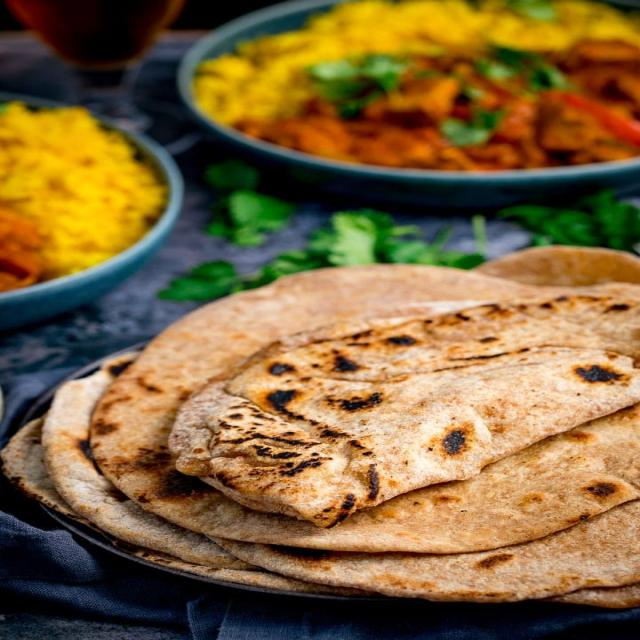roti: (91, 264, 639, 553), (169, 297, 639, 530), (220, 502, 639, 601), (42, 365, 244, 569), (0, 418, 92, 526)
